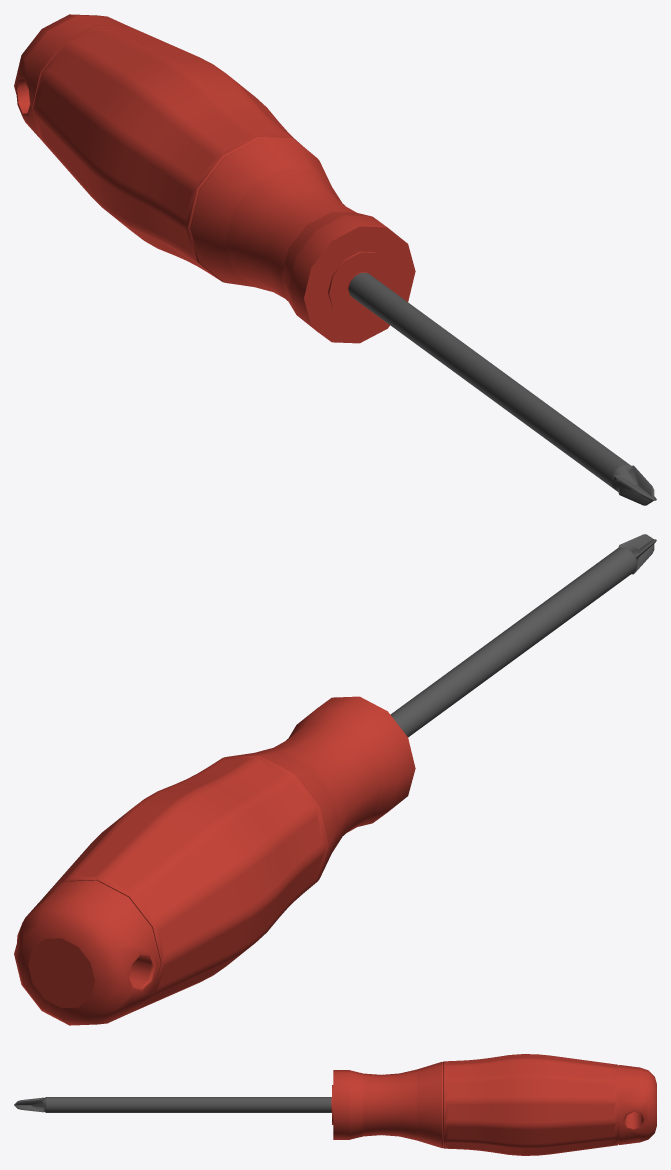
File: Scredriver.fbx
The picture shows the model from 3 angles, top to bottom: view 1: azimuth 30°, elevation 25°; view 2: azimuth 150°, elevation 25°; view 3: azimuth 270°, elevation 25°; orthographic projection. The views are drawn at different scales.
Parts seen in each view (by area): view 1: Schraubendreher; view 2: Schraubendreher; view 3: Schraubendreher.
Part boxes in pixels (bbox=[...]): Schraubendreher: bbox=[14, 14, 656, 505]; Schraubendreher: bbox=[14, 534, 656, 1025]; Schraubendreher: bbox=[14, 1054, 656, 1155].
Bounding box in the file's own units: 3.16 × 3.16 × 19.87.
